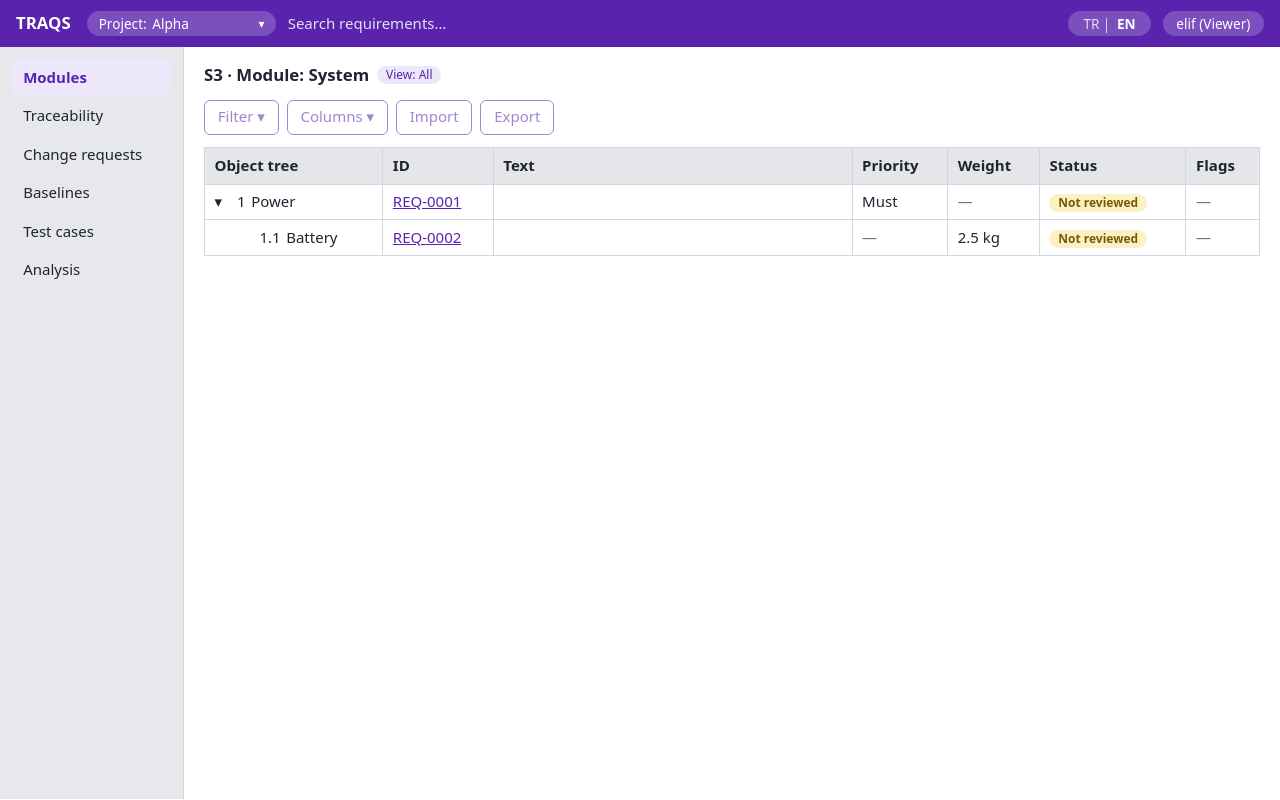
Test case: signed in › shows the object tree and collapses a branch
The width and height of the screenshot is (1280, 800).
Expected: the text "Battery" is shown, [286,227,338,247]
Click the button named "Collapse REQ-0001".
click(226, 202)  # box [215,191,237,213]
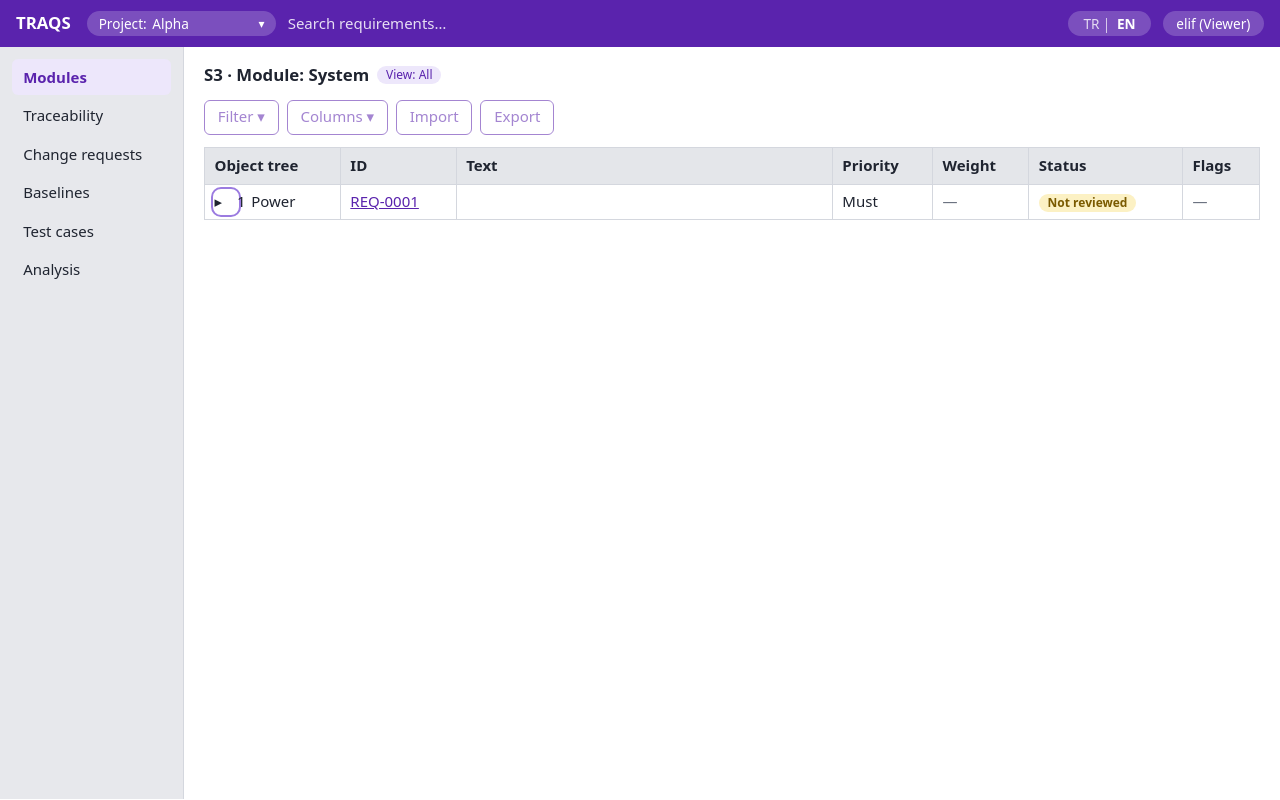
Expected: the text "Battery" is gone
